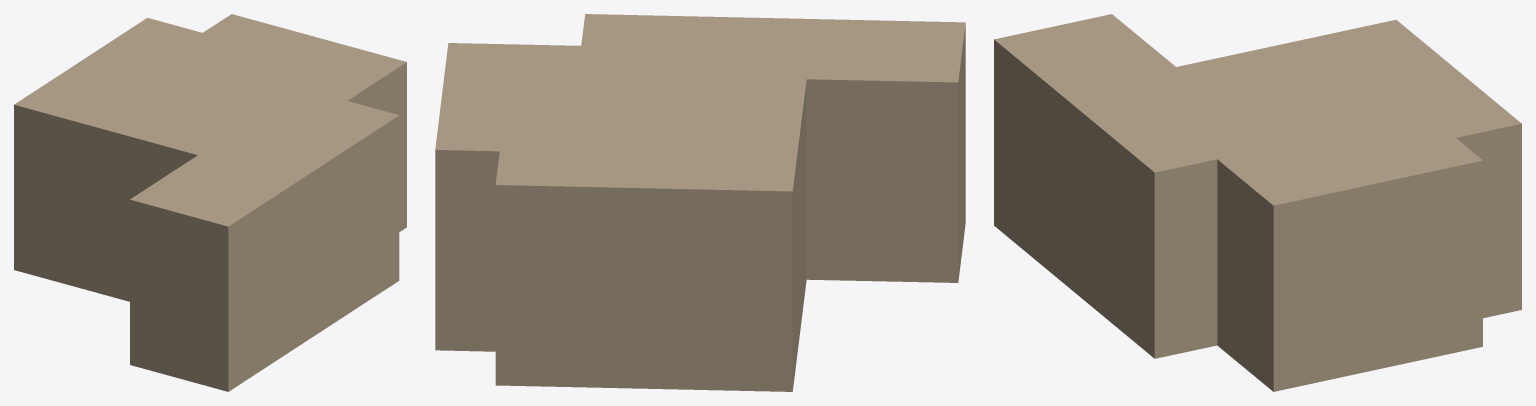
The model's file is bld_107638963.dae.
3 views of the same model, side by side, from view 1: azimuth 30°, elevation 25°; view 2: azimuth 150°, elevation 25°; view 3: azimuth 270°, elevation 25° (orthographic). The views are drawn at different scales.
Visible parts, largest first — view 1: bld_107638963; view 2: bld_107638963; view 3: bld_107638963.
Part boxes in pixels (<box>): bld_107638963: <box>14,14,406,391</box>; bld_107638963: <box>435,14,965,391</box>; bld_107638963: <box>994,14,1521,391</box>.
Bounding box in the file's own units: 17.66 × 20.55 × 8.
